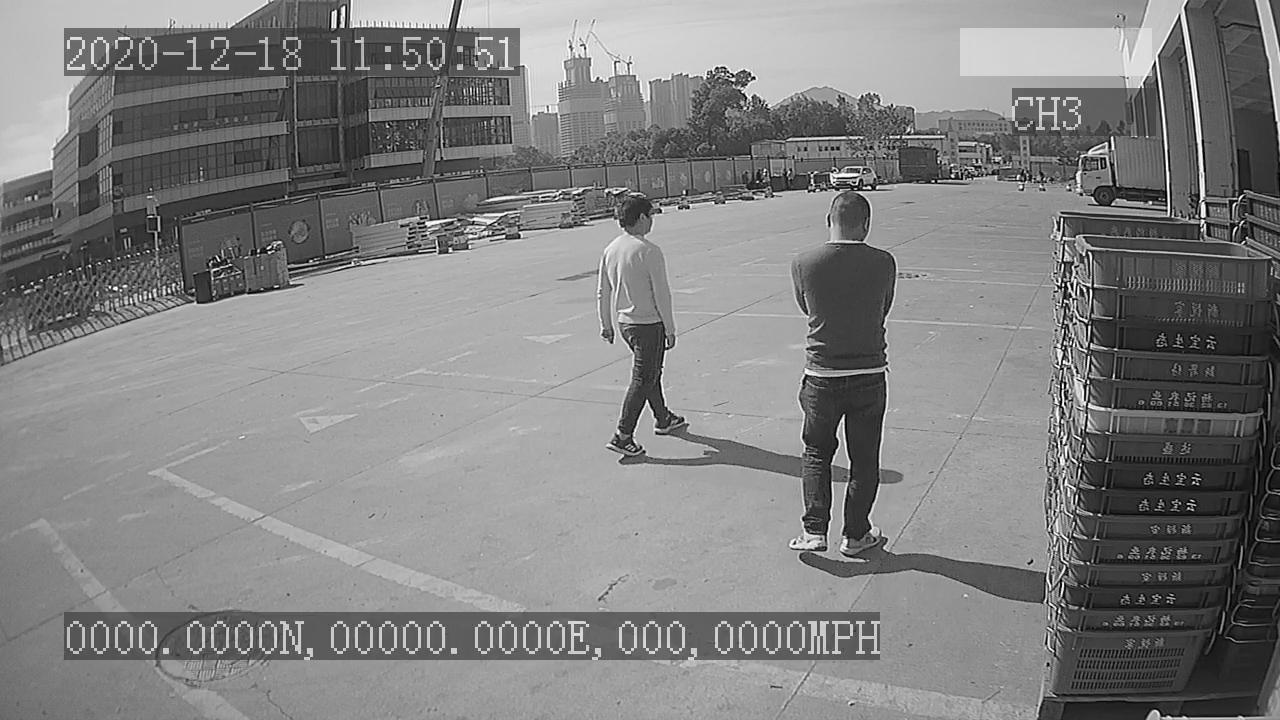person: (783, 185, 901, 563), (590, 188, 692, 460)
